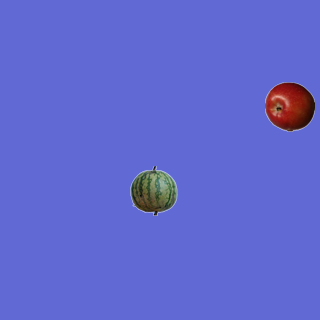Apple Braeburn: (264, 81, 314, 131)
Watermelon: (128, 165, 178, 215)
